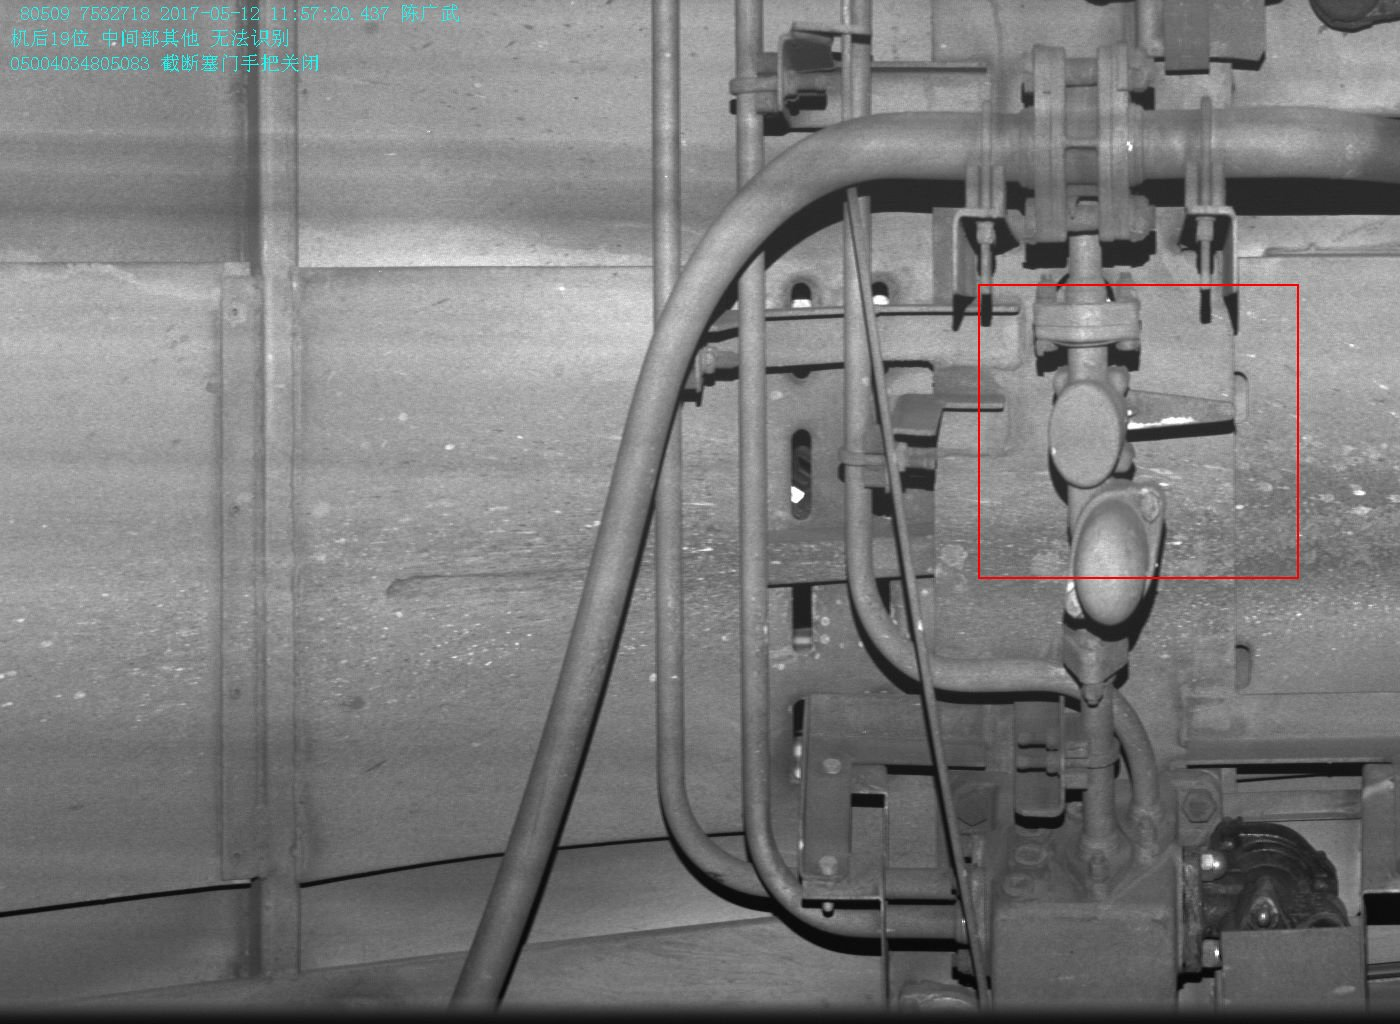truncated plug door handle: (1050, 367, 1237, 488)
